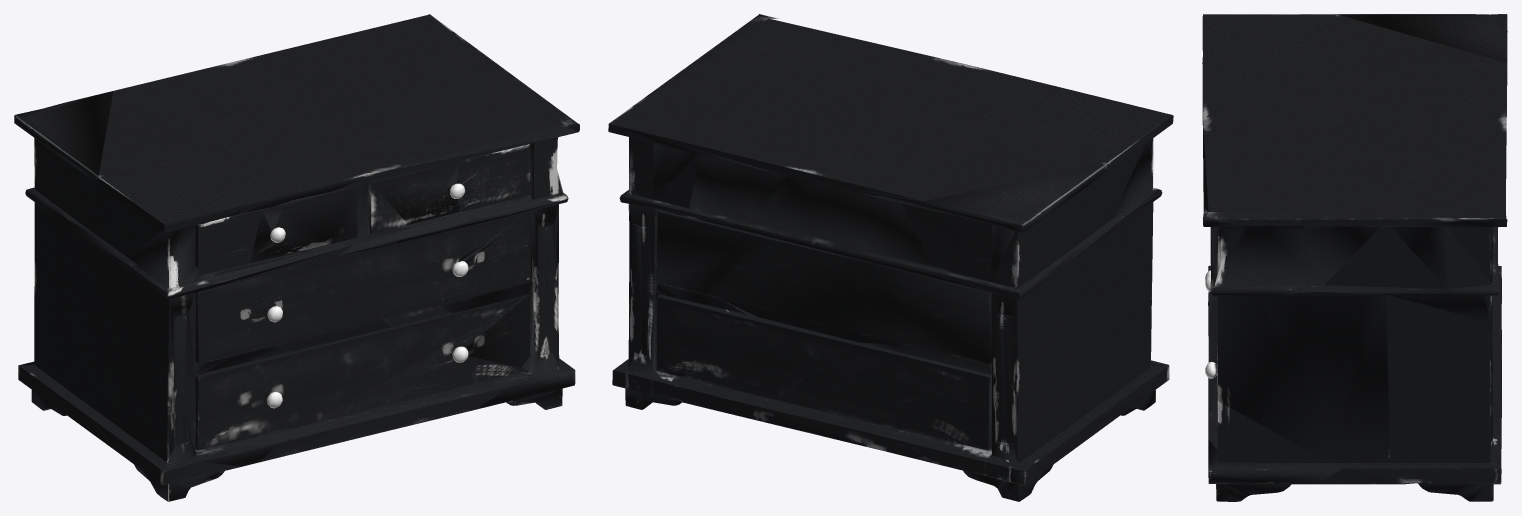
The model's file is Commode.fbx.
3 views of the same model, side by side, from view 1: azimuth 30°, elevation 25°; view 2: azimuth 150°, elevation 25°; view 3: azimuth 270°, elevation 25° (orthographic).
Visible parts, largest first — view 1: Mesh_0; view 2: Mesh_0; view 3: Mesh_0.
Part boxes in pixels (bbox=[...]): Mesh_0: bbox=[14, 14, 579, 501]; Mesh_0: bbox=[608, 14, 1173, 501]; Mesh_0: bbox=[1202, 14, 1507, 501].
Size of the model in its own units: 190 by 125 by 120.
1 material, 1 textured.
